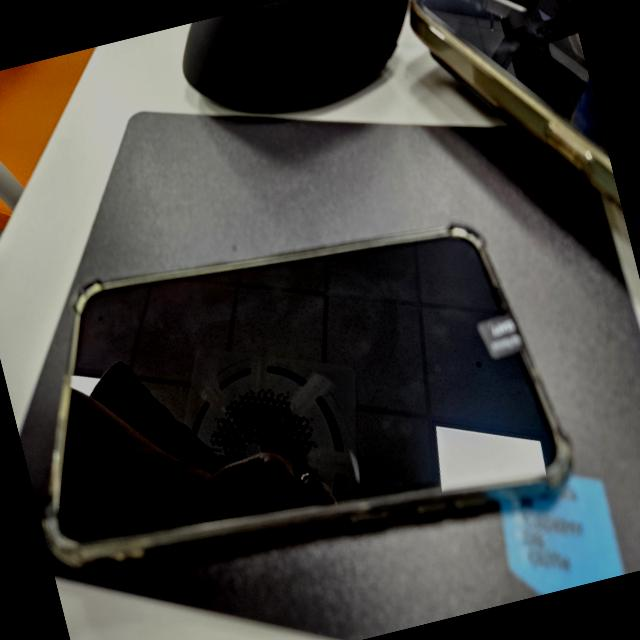phone: (0, 178, 579, 610), (404, 0, 622, 248)
sticker: (472, 308, 526, 362)
